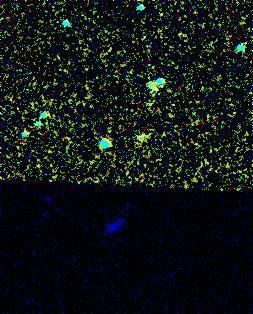star: (151, 1, 181, 31)
